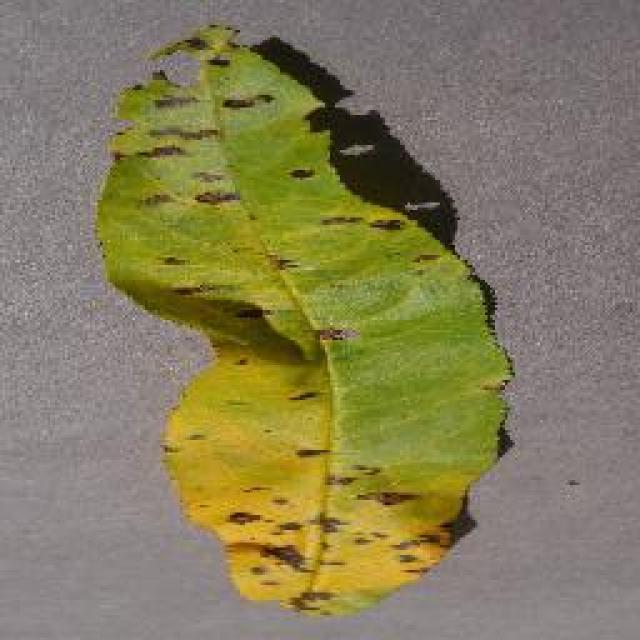Peach_Bacterial_Spot: (148, 40, 488, 620)
